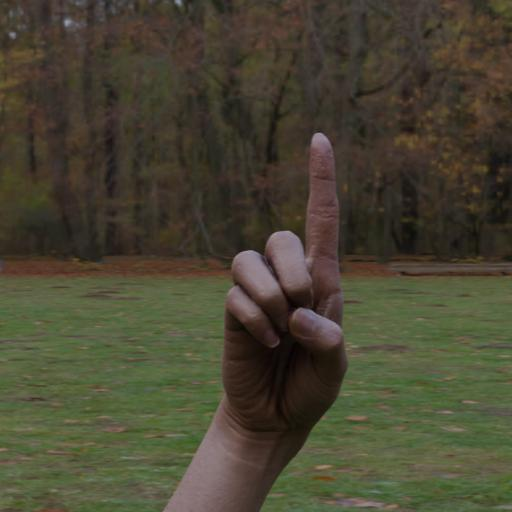D: (189, 126, 361, 434)
